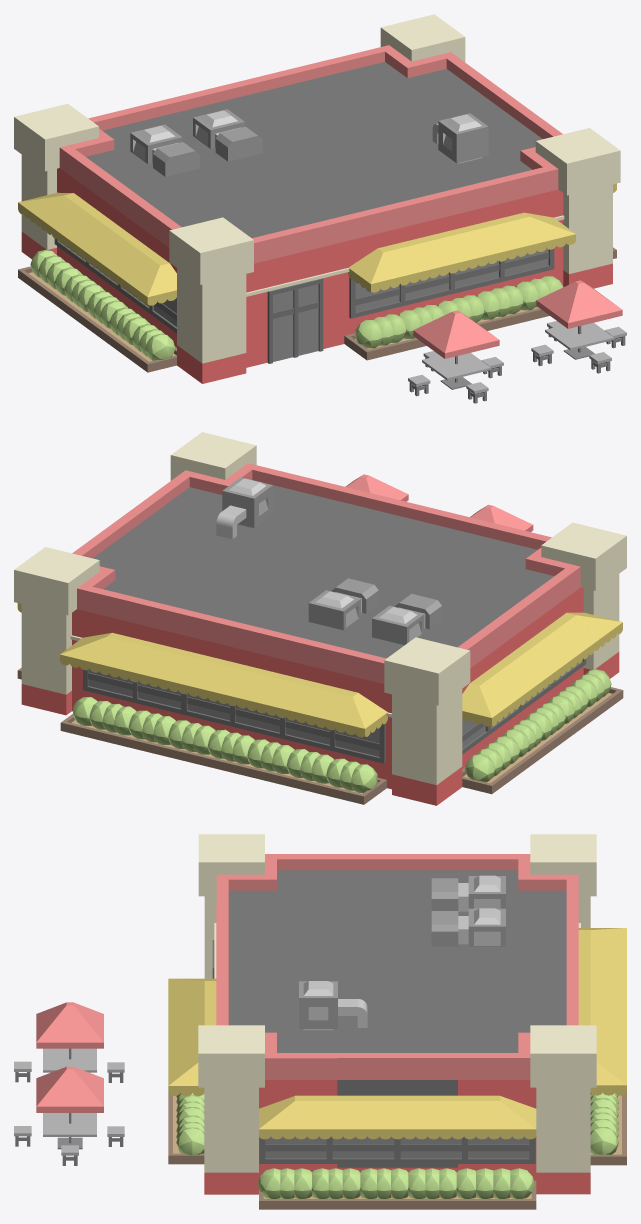
3 renders of one model, top to bottom at view 1: azimuth 30°, elevation 25°; view 2: azimuth 150°, elevation 25°; view 3: azimuth 270°, elevation 25°, orthographic. The views are drawn at different scales.
Parts seen in each view (by area): view 1: mergedBlocks.1932; view 2: mergedBlocks.1932; view 3: mergedBlocks.1932.
Part boxes in pixels (<box>): mergedBlocks.1932: <box>14,14,626,403</box>; mergedBlocks.1932: <box>14,432,626,805</box>; mergedBlocks.1932: <box>14,834,626,1209</box>.
Size of the model in its own units: 480 by 145 by 508.
